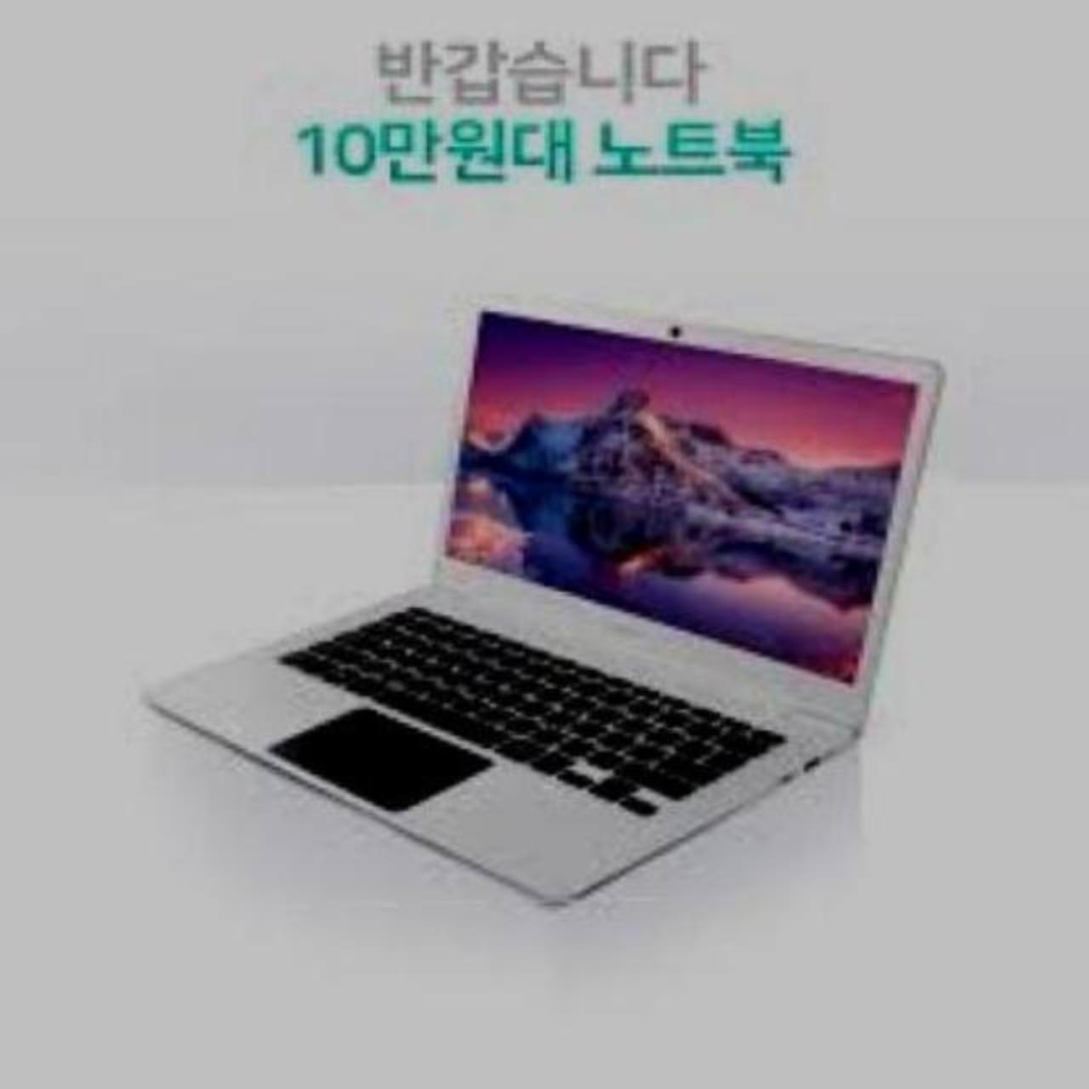laptop: (100, 270, 958, 904)
